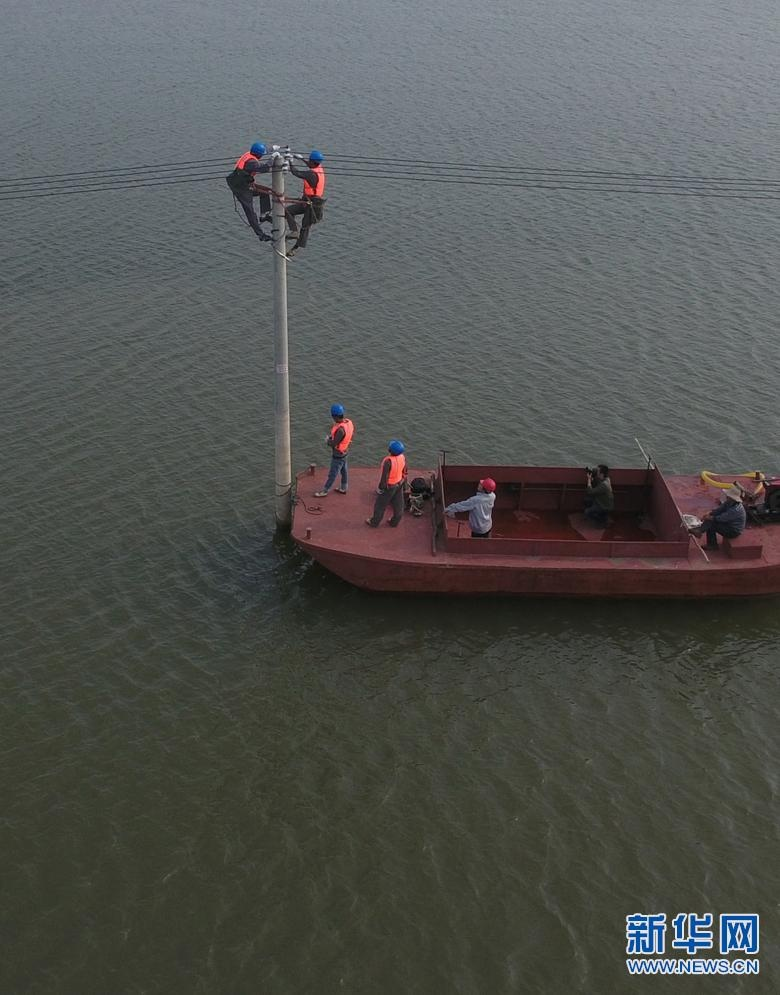blue: (327, 401, 347, 422), (385, 437, 404, 457), (246, 140, 266, 159), (305, 147, 323, 168)
none: (724, 484, 743, 508), (593, 462, 608, 480)
red: (476, 475, 495, 492)
